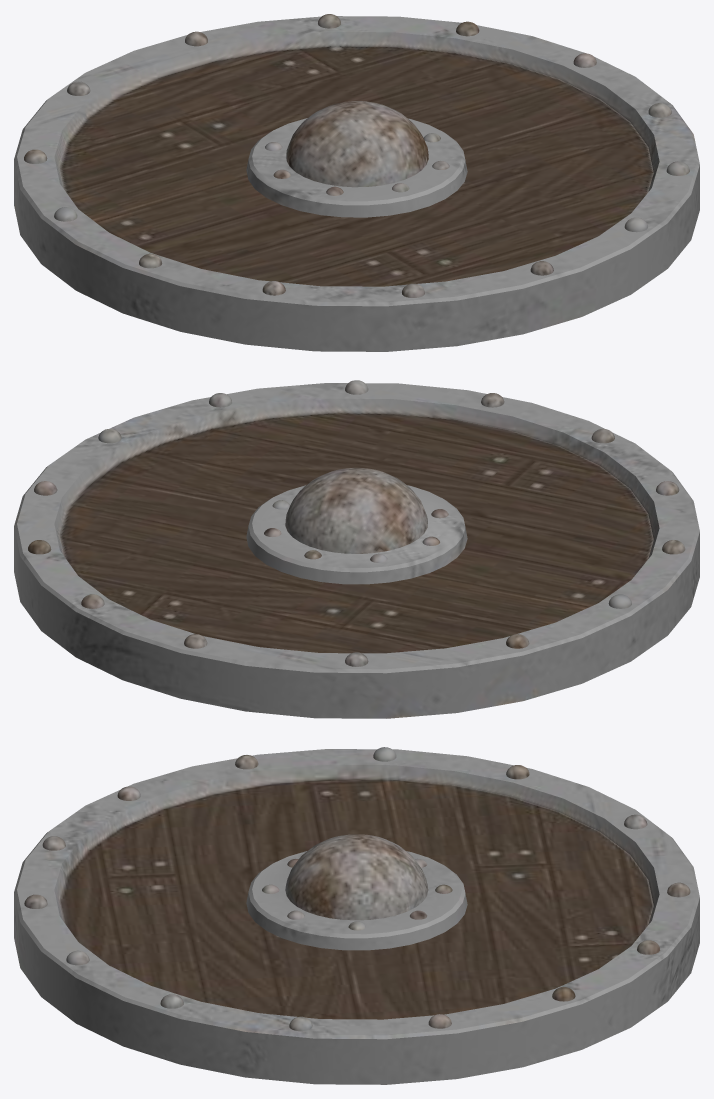
The model's file is item.shield.sentinel.glb.
3 views of the same model, one above another, from view 1: azimuth 30°, elevation 25°; view 2: azimuth 150°, elevation 25°; view 3: azimuth 270°, elevation 25° (orthographic).
Visible parts, largest first — view 1: Cylinder089; view 2: Cylinder089; view 3: Cylinder089.
Part boxes in pixels (x1,y1,x2,y2): Cylinder089: (14,14,699,351); Cylinder089: (14,380,699,718); Cylinder089: (14,747,699,1084).
Bounding box in the file's own units: 1.2 × 0.226 × 1.2.
1 material, 1 textured.
